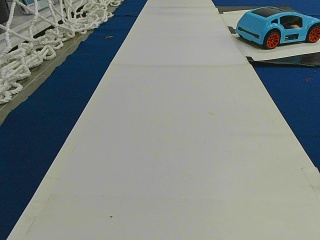car: (235, 8, 317, 48)
